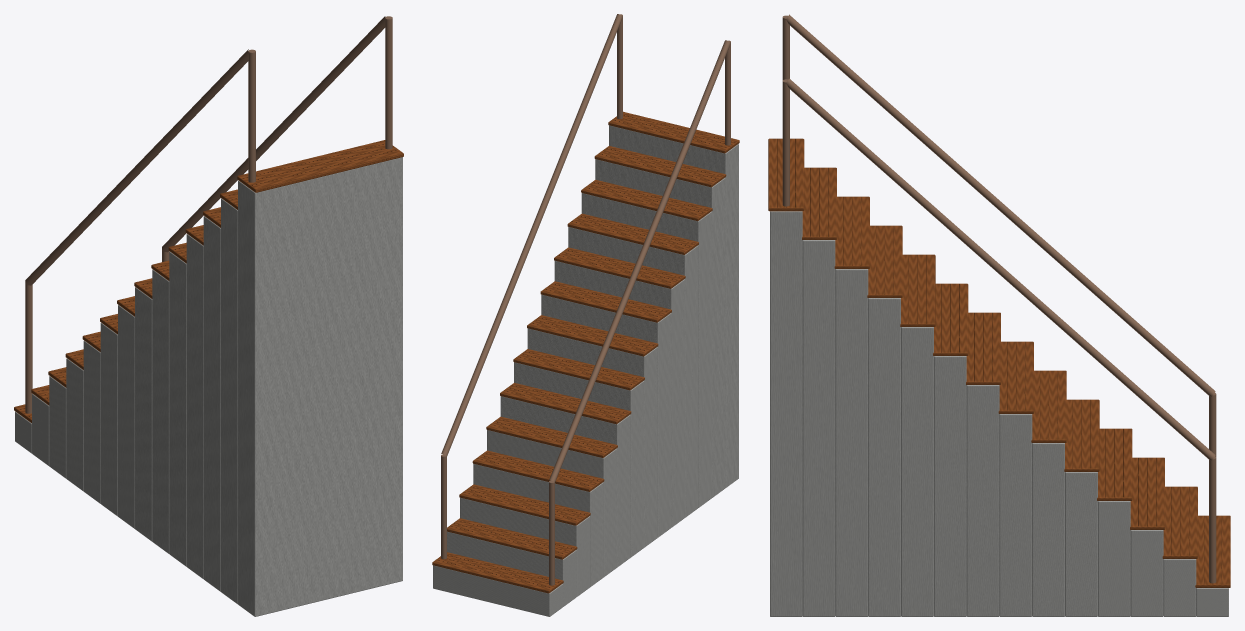
The model's file is paranormal-investigation-house-basement-stair-57cc8626__26698.glb.
3 renders of one model, left to right at view 1: azimuth 30°, elevation 25°; view 2: azimuth 150°, elevation 25°; view 3: azimuth 270°, elevation 25°, orthographic. The views are drawn at different scales.
Visible parts, largest first — view 1: basement-stair; view 2: basement-stair; view 3: basement-stair.
Boxes of the visible parts, bbox=[...] form: basement-stair: bbox=[14, 16, 403, 616]; basement-stair: bbox=[432, 14, 739, 616]; basement-stair: bbox=[768, 14, 1230, 616].
Size of the model in its own units: 1 by 3.61 by 2.82.
Materials: 3 (2 with a texture image).
